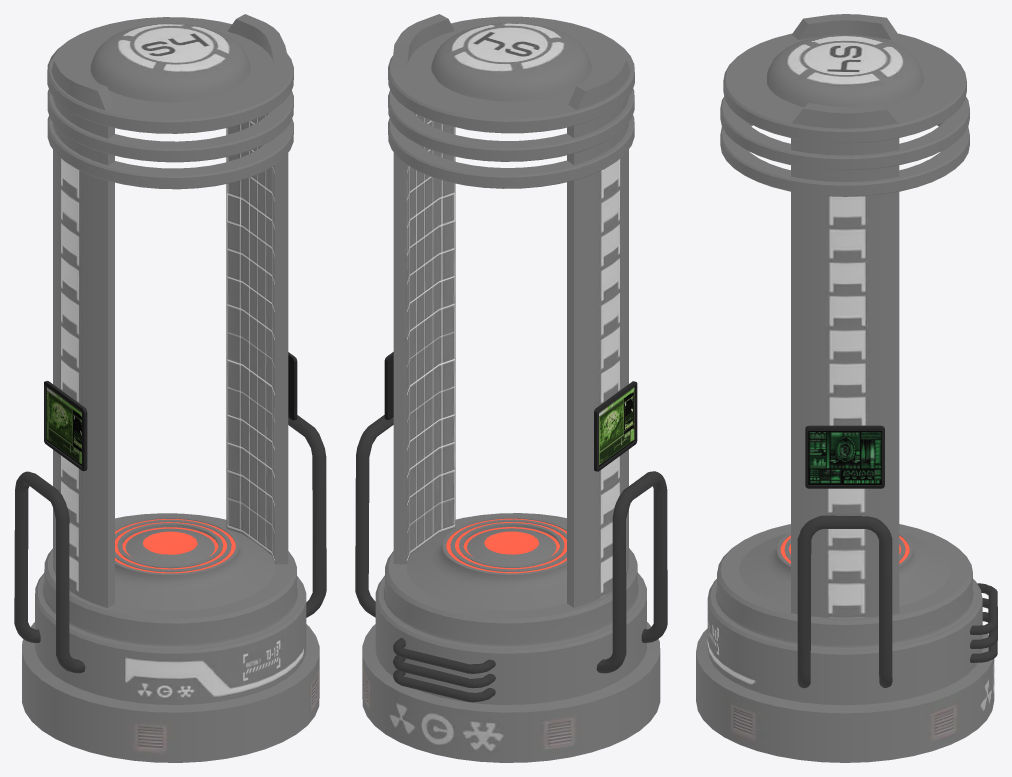
File: pod_open.glb
3 renders of one model, left to right at view 1: azimuth 30°, elevation 25°; view 2: azimuth 150°, elevation 25°; view 3: azimuth 270°, elevation 25°, orthographic.
Visible parts, largest first — view 1: Chamber_M_pod_0.001, Chamber_M_dispalys_0.001, Chamber_M_glow_0.001; view 2: Chamber_M_pod_0.001, Chamber_M_dispalys_0.001, Chamber_M_glow_0.001; view 3: Chamber_M_pod_0.001, Chamber_M_dispalys_0.001.
Part boxes in pixels (bbox=[...]): Chamber_M_pod_0.001: bbox=[14, 14, 326, 762]; Chamber_M_dispalys_0.001: bbox=[44, 352, 297, 471]; Chamber_M_glow_0.001: bbox=[115, 519, 235, 573]; Chamber_M_pod_0.001: bbox=[355, 14, 667, 762]; Chamber_M_dispalys_0.001: bbox=[384, 352, 637, 471]; Chamber_M_glow_0.001: bbox=[446, 518, 566, 573]; Chamber_M_pod_0.001: bbox=[696, 14, 997, 762]; Chamber_M_dispalys_0.001: bbox=[805, 425, 884, 488].
Bounding box in the file's own units: 1.08 × 2.5 × 1.06.
Materials: 3 (2 with a texture image).
